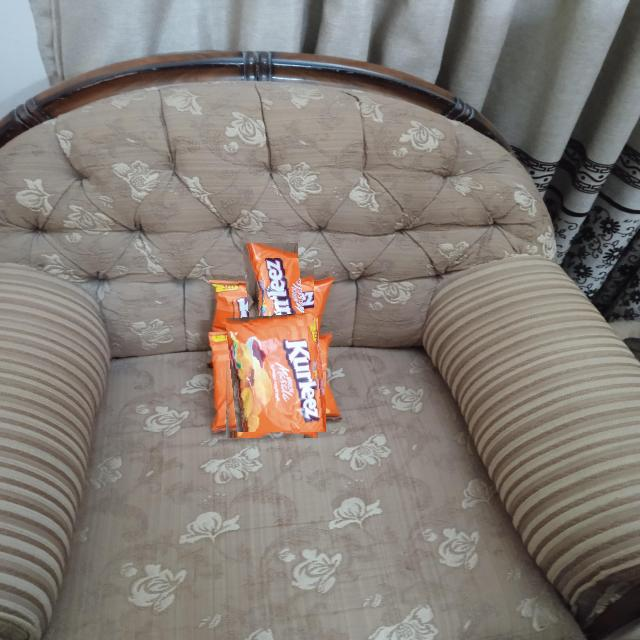Plastic: (218, 325, 326, 432), (228, 258, 314, 345)
